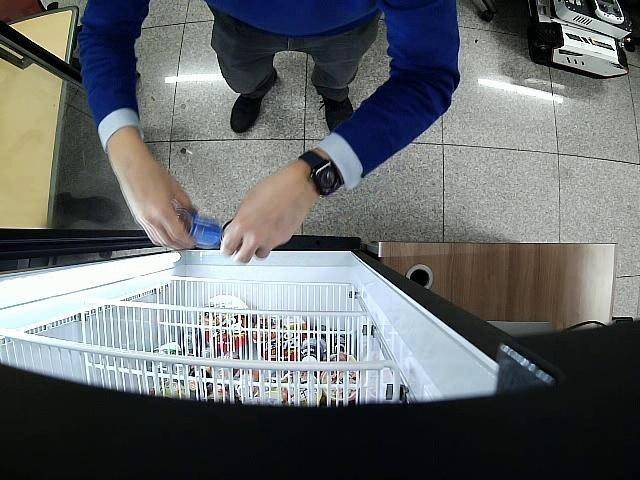15_letsbe: (175, 208, 222, 249)
